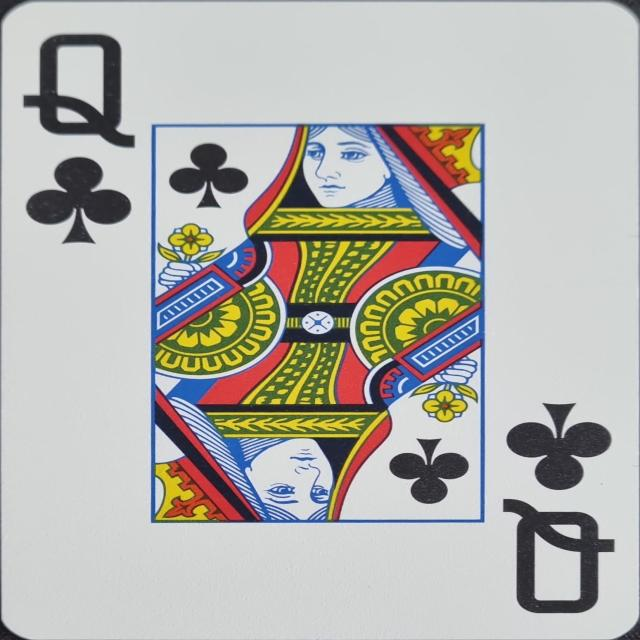Qc: (17, 30, 139, 252), (497, 398, 619, 616)
